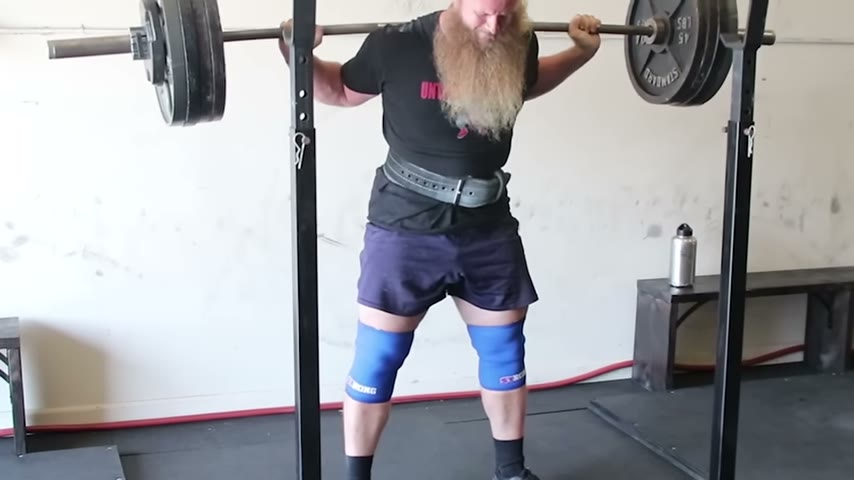barbell_plate_side: (50, 0, 140, 135), (225, 0, 295, 127)
